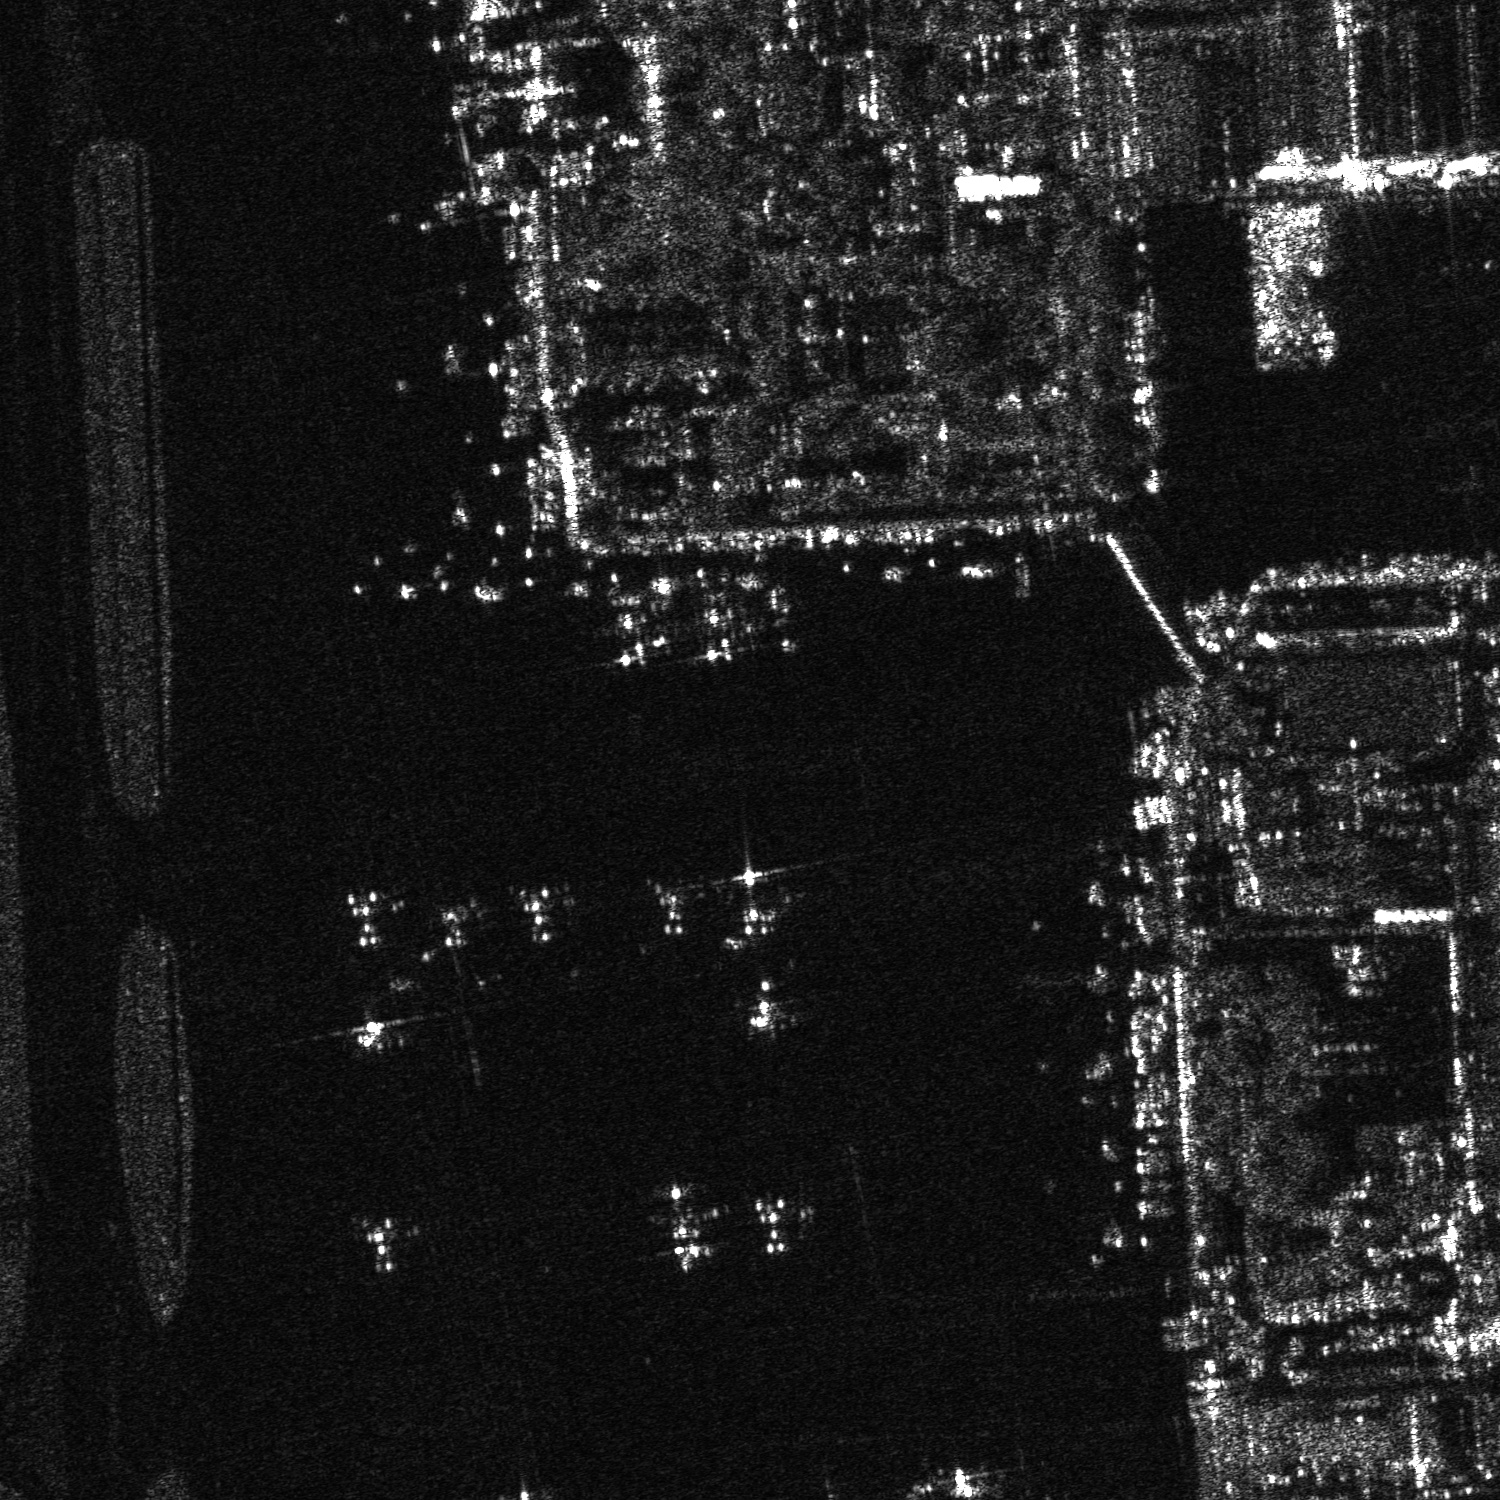A220: (750, 1191, 823, 1262)
ARJ21: (740, 574, 832, 657), (736, 970, 801, 1038), (348, 1218, 412, 1280), (338, 1003, 407, 1056)
Boeing737: (596, 582, 672, 670)
Boeing787: (927, 1464, 997, 1499)
other: (632, 1168, 739, 1282), (716, 865, 805, 951), (679, 587, 743, 669), (332, 885, 411, 952), (510, 879, 577, 946), (426, 894, 496, 957), (648, 876, 705, 942)
